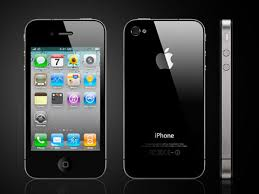iphone: (22, 15, 109, 182), (120, 15, 207, 182)
iphone4: (21, 15, 108, 182), (122, 13, 209, 180)
